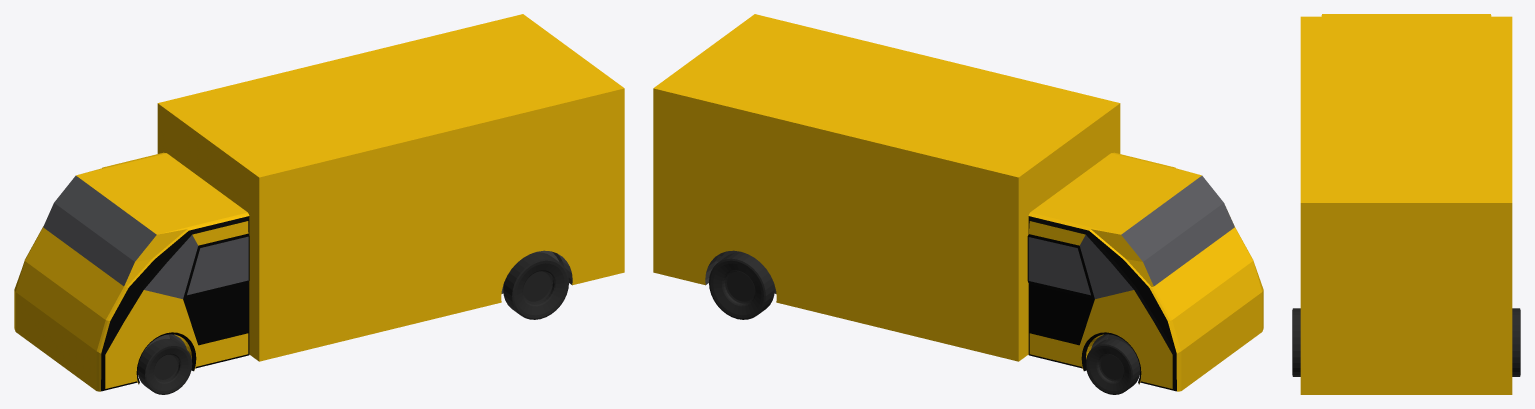
File: van2.fbx
3 views of the same model, side by side, from view 1: azimuth 30°, elevation 25°; view 2: azimuth 150°, elevation 25°; view 3: azimuth 270°, elevation 25° (orthographic). The views are drawn at different scales.
Parts seen in each view (by area): view 1: Cube.002; view 2: Cube.002; view 3: Cube.002.
Part boxes in pixels (left/top/right/bottom): Cube.002: left=14, top=14, right=624, bottom=394; Cube.002: left=653, top=14, right=1263, bottom=394; Cube.002: left=1292, top=14, right=1520, bottom=394.
Bounding box in the file's own units: 4773 × 1821 × 1747.
